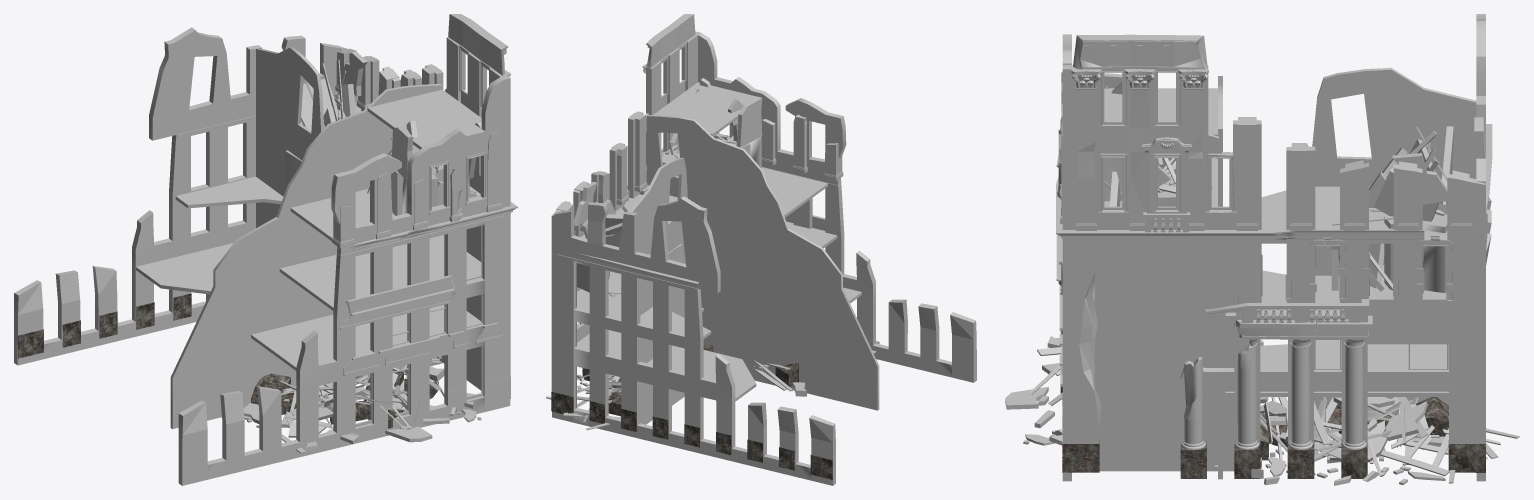
The model's file is backu.fbx.
The picture shows the model from 3 angles, left to right: view 1: azimuth 30°, elevation 25°; view 2: azimuth 150°, elevation 25°; view 3: azimuth 270°, elevation 25°; orthographic projection. The views are drawn at different scales.
Parts seen in each view (by area): view 1: LODGroup_1_MainMesh_1_SubMesh_1, LODGroup_1_MainMesh_1_SubMesh_8, LODGroup_1_MainMesh_1_SubMesh_3, LODGroup_1_MainMesh_1_SubMesh_9, LODGroup_1_MainMesh_1_SubMesh_2, LODGroup_1_MainMesh_1_SubMesh_7, LODGroup_1_MainMesh_1_SubMesh_4, LODGroup_1_MainMesh_1_SubMesh_10, LODGroup_1_MainMesh_1_SubMesh_6; view 2: LODGroup_1_MainMesh_1_SubMesh_8, LODGroup_1_MainMesh_1_SubMesh_1, LODGroup_1_MainMesh_1_SubMesh_3, LODGroup_1_MainMesh_1_SubMesh_2, LODGroup_1_MainMesh_1_SubMesh_7, LODGroup_1_MainMesh_1_SubMesh_9, LODGroup_1_MainMesh_1_SubMesh_4; view 3: LODGroup_1_MainMesh_1_SubMesh_1, LODGroup_1_MainMesh_1_SubMesh_8, LODGroup_1_MainMesh_1_SubMesh_10, LODGroup_1_MainMesh_1_SubMesh_9, LODGroup_1_MainMesh_1_SubMesh_3, LODGroup_1_MainMesh_1_SubMesh_2, LODGroup_1_MainMesh_1_SubMesh_7, LODGroup_1_MainMesh_1_SubMesh_4.
Part boxes in pixels (left/top/right/bottom): LODGroup_1_MainMesh_1_SubMesh_1: left=14, top=14, right=510, bottom=485; LODGroup_1_MainMesh_1_SubMesh_8: left=149, top=27, right=510, bottom=429; LODGroup_1_MainMesh_1_SubMesh_3: left=136, top=49, right=488, bottom=370; LODGroup_1_MainMesh_1_SubMesh_9: left=338, top=37, right=517, bottom=375; LODGroup_1_MainMesh_1_SubMesh_2: left=243, top=51, right=481, bottom=450; LODGroup_1_MainMesh_1_SubMesh_7: left=18, top=293, right=438, bottom=428; LODGroup_1_MainMesh_1_SubMesh_4: left=277, top=364, right=444, bottom=453; LODGroup_1_MainMesh_1_SubMesh_10: left=437, top=186, right=481, bottom=390; LODGroup_1_MainMesh_1_SubMesh_6: left=355, top=294, right=483, bottom=426; LODGroup_1_MainMesh_1_SubMesh_8: left=551, top=31, right=879, bottom=424; LODGroup_1_MainMesh_1_SubMesh_1: left=551, top=14, right=976, bottom=485; LODGroup_1_MainMesh_1_SubMesh_3: left=577, top=45, right=861, bottom=401; LODGroup_1_MainMesh_1_SubMesh_2: left=574, top=88, right=879, bottom=398; LODGroup_1_MainMesh_1_SubMesh_7: left=551, top=344, right=832, bottom=479; LODGroup_1_MainMesh_1_SubMesh_9: left=574, top=34, right=825, bottom=288; LODGroup_1_MainMesh_1_SubMesh_4: left=546, top=350, right=876, bottom=430; LODGroup_1_MainMesh_1_SubMesh_1: left=1057, top=34, right=1491, bottom=481; LODGroup_1_MainMesh_1_SubMesh_8: left=1062, top=14, right=1485, bottom=479; LODGroup_1_MainMesh_1_SubMesh_10: left=1094, top=240, right=1238, bottom=471; LODGroup_1_MainMesh_1_SubMesh_9: left=1056, top=45, right=1492, bottom=386; LODGroup_1_MainMesh_1_SubMesh_3: left=1093, top=72, right=1448, bottom=396; LODGroup_1_MainMesh_1_SubMesh_2: left=1005, top=73, right=1453, bottom=485; LODGroup_1_MainMesh_1_SubMesh_7: left=1060, top=387, right=1485, bottom=478; LODGroup_1_MainMesh_1_SubMesh_4: left=1029, top=338, right=1519, bottom=483.
Size of the model in its own units: 2177 by 2091 by 2187.
